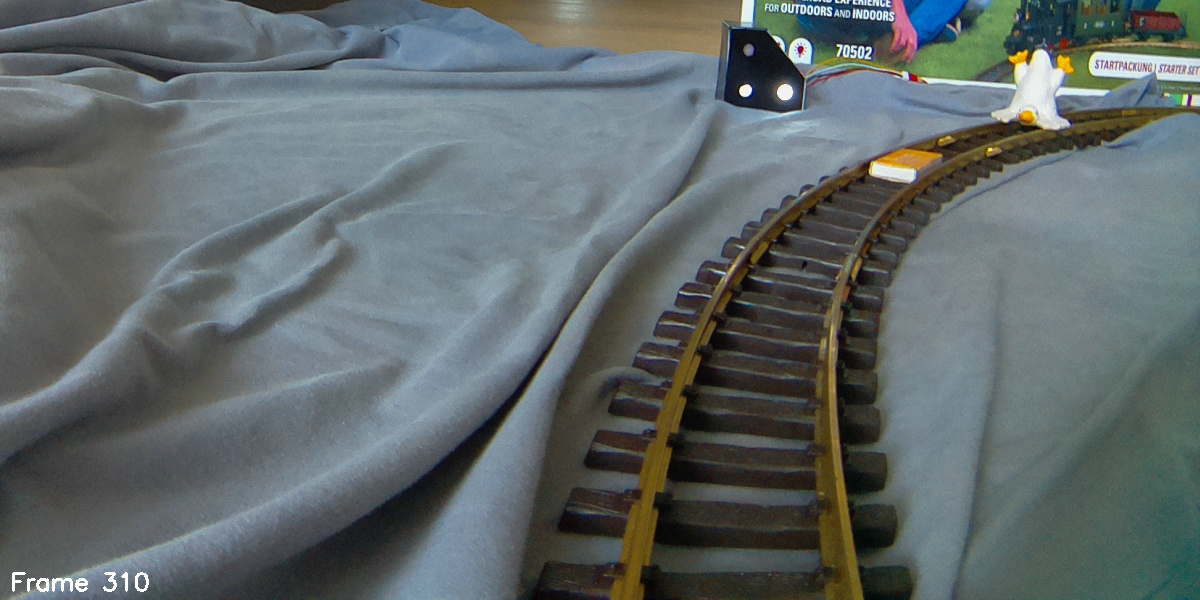Halt: (716, 22, 807, 116)
